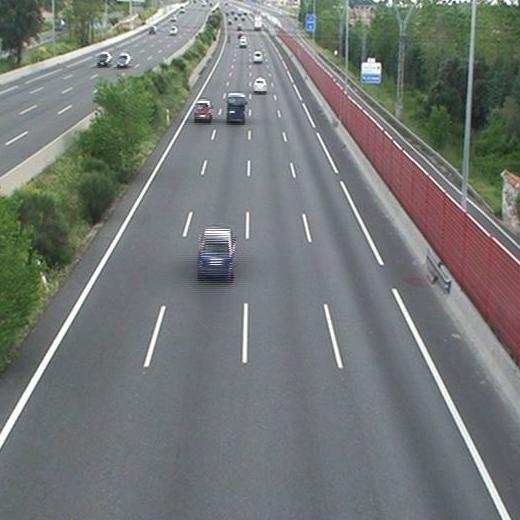car: (197, 229, 234, 274), (194, 100, 212, 121), (253, 78, 267, 93), (253, 51, 263, 62)
van: (226, 92, 246, 121)
